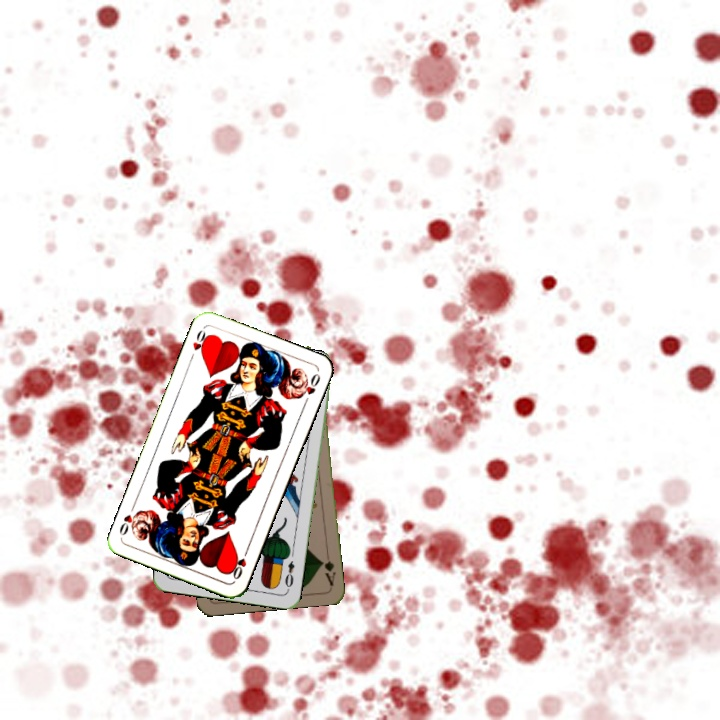EO: (281, 557, 297, 593)
GA: (317, 548, 338, 588)
HO: (227, 544, 251, 582), (188, 326, 212, 357)
